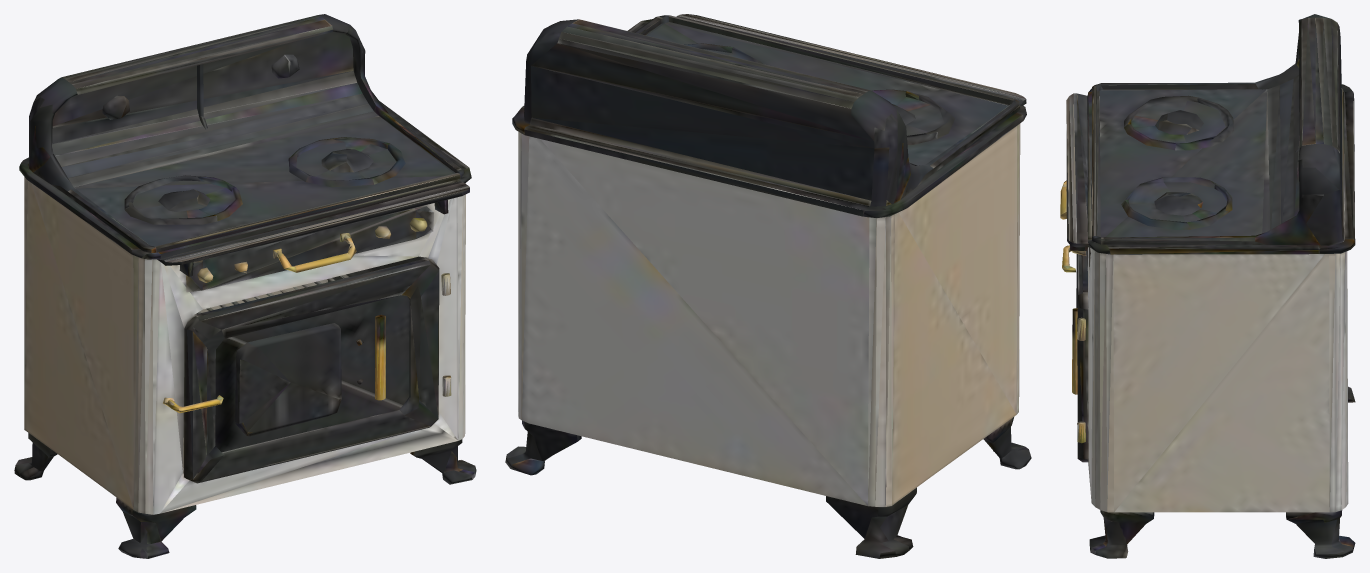
File: stove.lod1.glb
3 renders of one model, left to right at view 1: azimuth 30°, elevation 25°; view 2: azimuth 150°, elevation 25°; view 3: azimuth 270°, elevation 25°, orthographic. The views are drawn at different scales.
Bounding box in the file's own units: 0.8991 × 0.95 × 0.65.
1 material, 1 textured.
